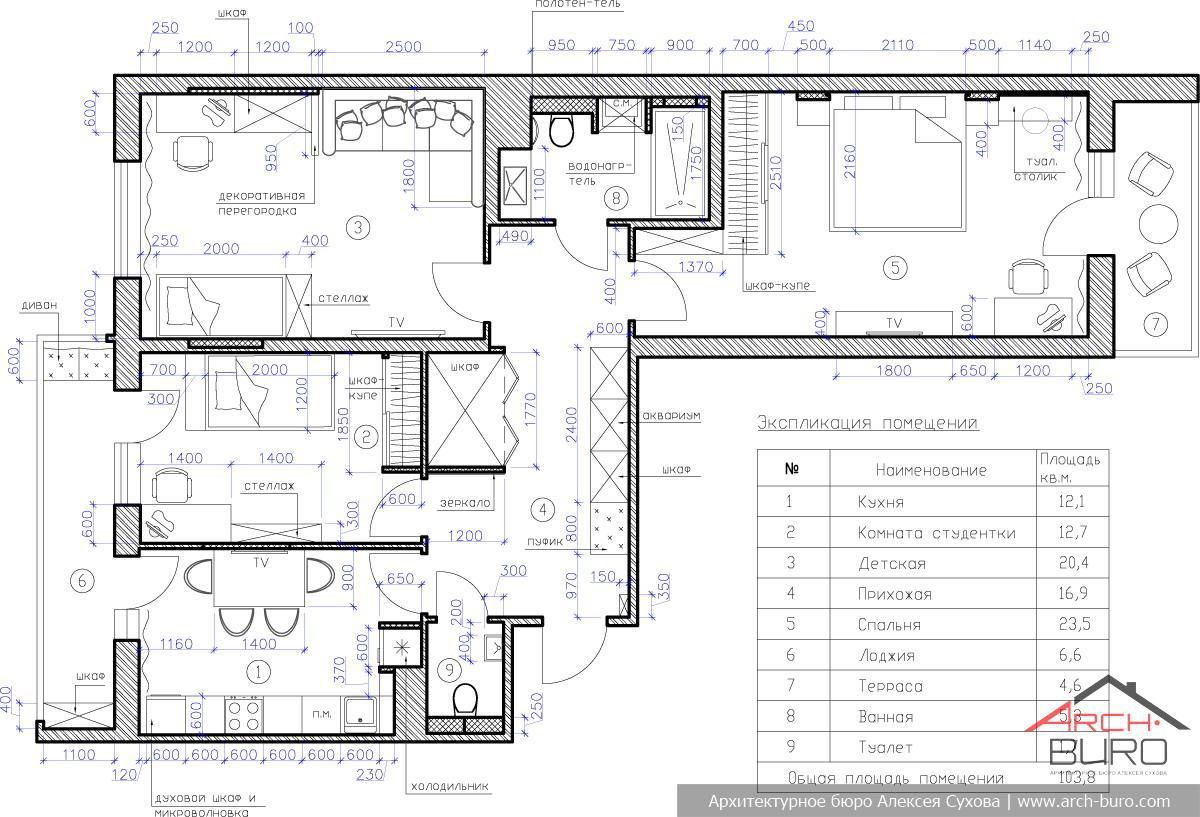balcony: (1114, 100, 1192, 350)
bathroom: (500, 96, 709, 219)
bedroom: (634, 91, 1090, 338), (141, 351, 422, 544)
children_room: (140, 88, 486, 340)
hallway: (426, 224, 630, 617)
kitchen: (140, 547, 422, 736)
toilet: (426, 620, 504, 733)
